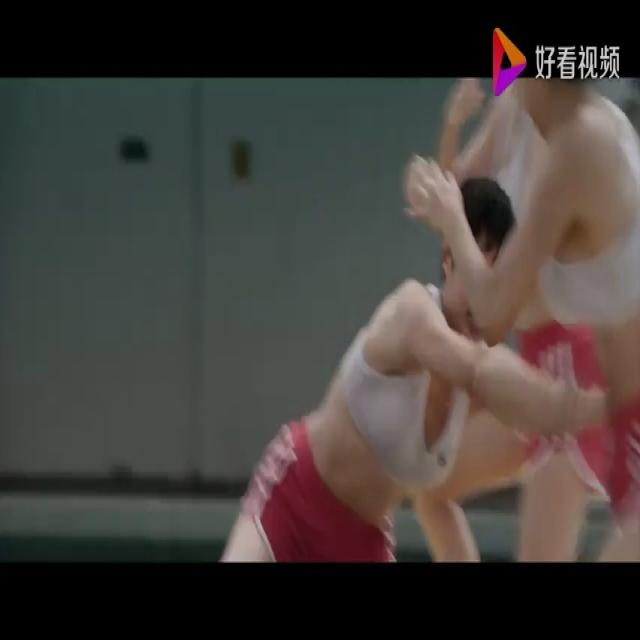fight: (213, 72, 640, 564)
